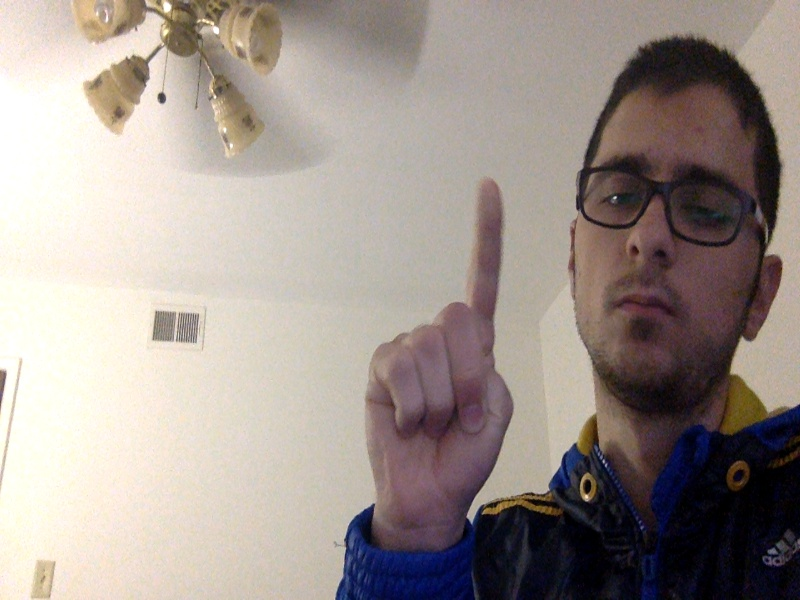1-hand: (366, 180, 516, 522)
